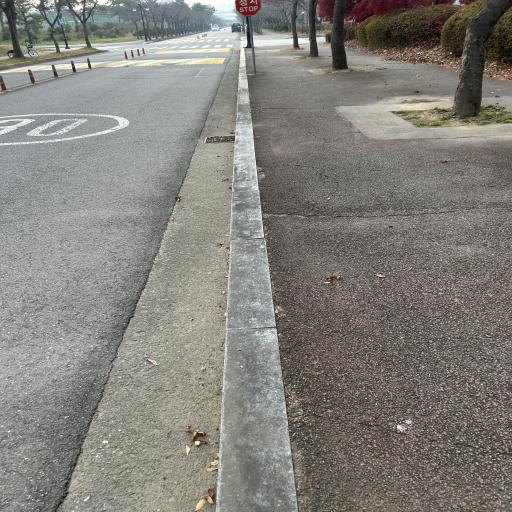drain: (205, 135, 235, 143)
